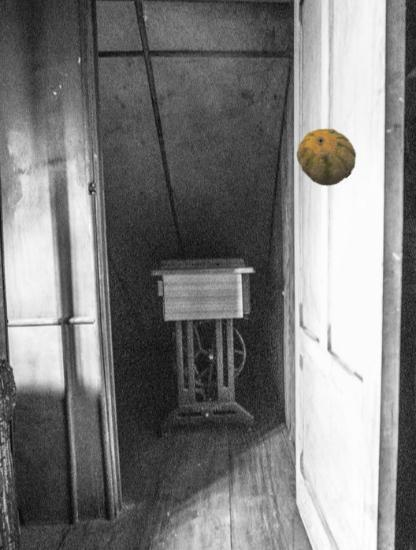Cantaloupe: (297, 127, 356, 186)
